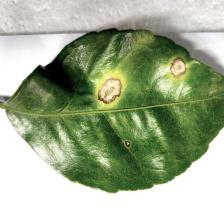canker: (90, 44, 193, 149)
